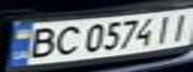0: (81, 20, 106, 53)
4: (133, 15, 160, 47)
5: (103, 18, 124, 52)
7: (118, 17, 142, 50)
B: (21, 25, 63, 60)
C: (48, 24, 84, 56)
I: (151, 11, 181, 44), (166, 9, 193, 42)
